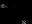person: (19, 19, 27, 24), (0, 3, 6, 9)
